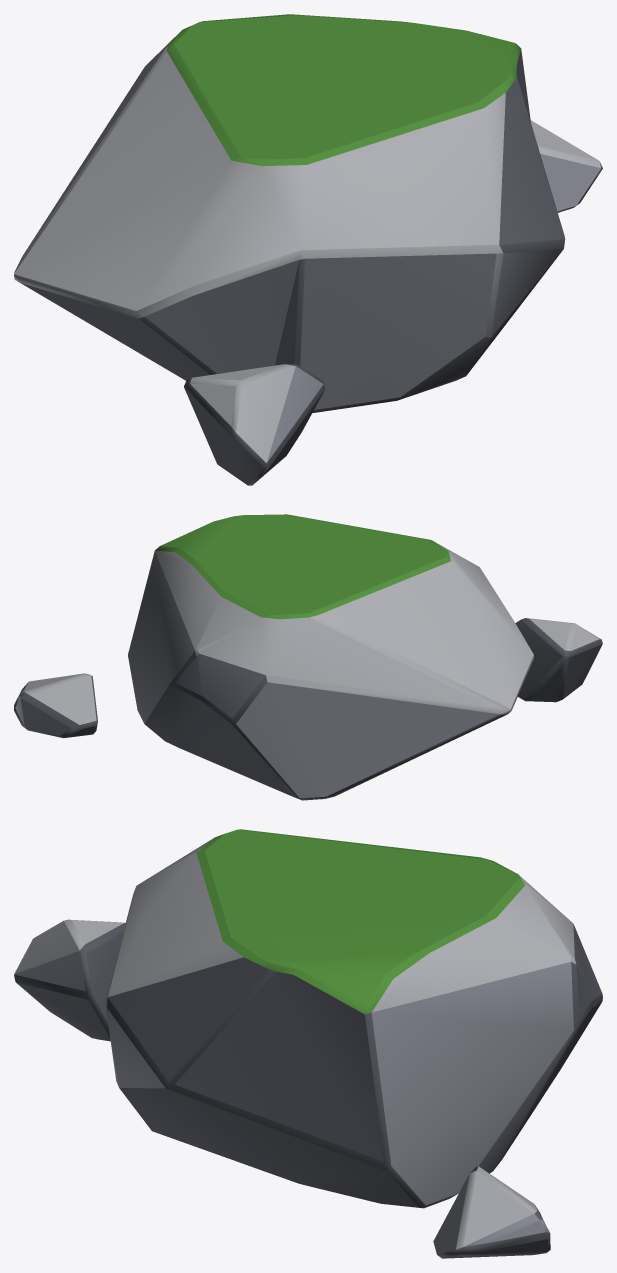
Rendered from Boulder_13.glb.
The picture shows the model from 3 angles, top to bottom: view 1: azimuth 30°, elevation 25°; view 2: azimuth 150°, elevation 25°; view 3: azimuth 270°, elevation 25°; orthographic projection. The views are drawn at different scales.
Visible parts, largest first — view 1: Boulder_13; view 2: Boulder_13; view 3: Boulder_13.
Boxes of the visible parts, x1,y1,x2,y2 form: Boulder_13: [14, 14, 602, 485]; Boulder_13: [14, 514, 602, 800]; Boulder_13: [14, 829, 602, 1258].
Size of the model in its own units: 5.22 by 1.85 by 4.41.
